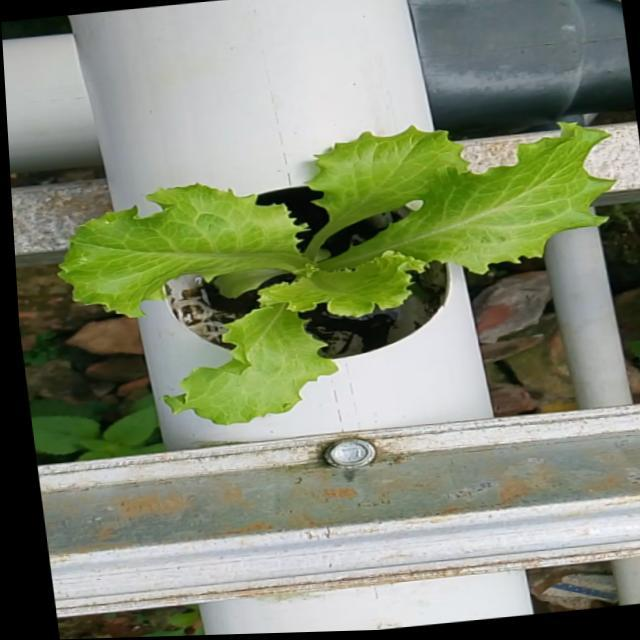Baby: (58, 126, 612, 426)
